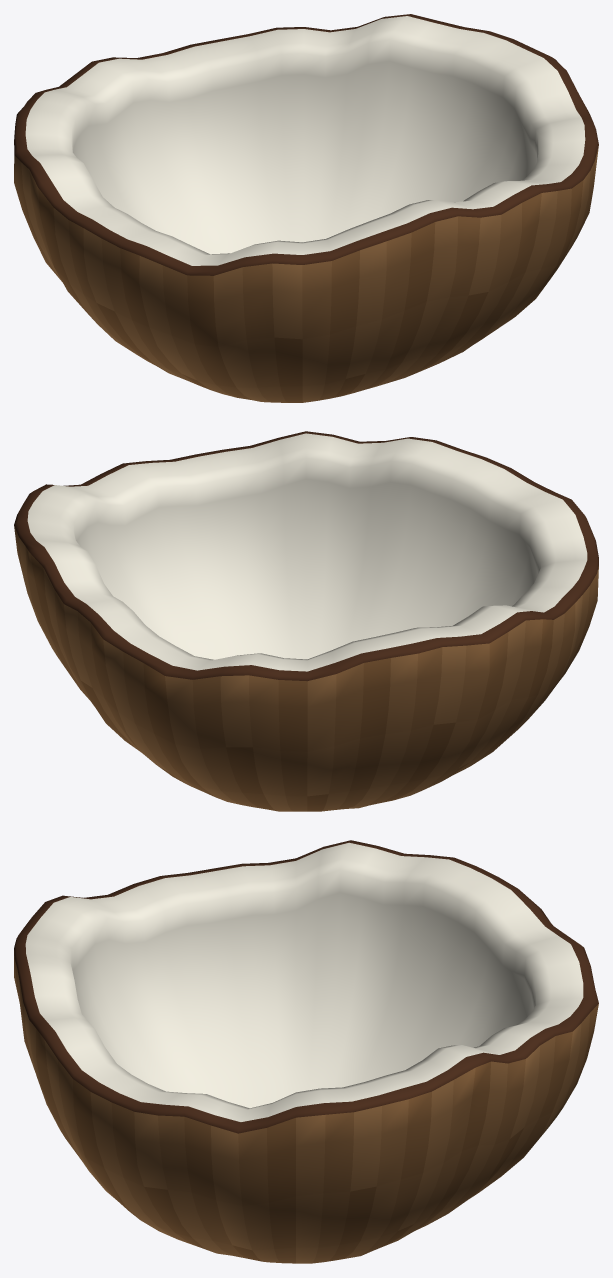
The picture shows the model from 3 angles, top to bottom: view 1: azimuth 30°, elevation 25°; view 2: azimuth 150°, elevation 25°; view 3: azimuth 270°, elevation 25°; orthographic projection. The views are drawn at different scales.
Visible parts, largest first — view 1: NEW310_Coconut_half_LOD2; view 2: NEW310_Coconut_half_LOD2; view 3: NEW310_Coconut_half_LOD2.
Part boxes in pixels (x1,y1,x2,y2): NEW310_Coconut_half_LOD2: (14, 14, 598, 402); NEW310_Coconut_half_LOD2: (14, 431, 598, 811); NEW310_Coconut_half_LOD2: (14, 840, 598, 1263).
Bounding box in the file's own units: 0.1632 × 0.0757 × 0.1508.
